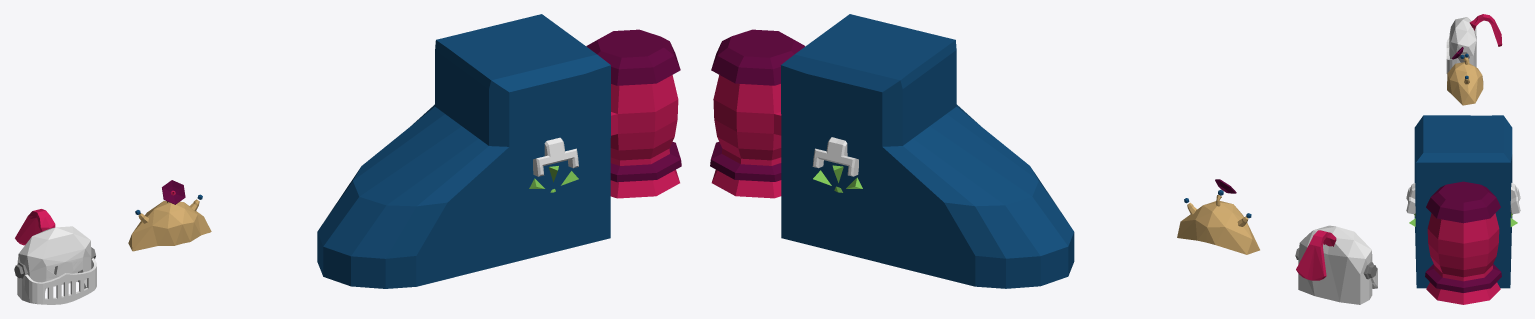
The model's file is Equipment.fbx.
The picture shows the model from 3 angles, left to right: view 1: azimuth 30°, elevation 25°; view 2: azimuth 150°, elevation 25°; view 3: azimuth 270°, elevation 25°; orthographic projection. The views are drawn at different scales.
Parts seen in each view (by area): view 1: RocketBoots, Helmet_protect, Helmet_GhostSlow, Cube; view 2: RocketBoots, Helmet_protect, Helmet_GhostSlow, Cube; view 3: RocketBoots, Helmet_protect, Helmet_GhostSlow, Cube, Icosphere.
Part boxes in pixels (x1,y1,x2,y2): RocketBoots: (317,14,681,288); Helmet_protect: (14,209,96,304); Helmet_GhostSlow: (128,194,211,251); Cube: (533,137,578,176); RocketBoots: (710,14,1074,288); Helmet_protect: (1295,225,1377,304); Helmet_GhostSlow: (1177,190,1259,254); Cube: (812,137,858,176); RocketBoots: (1414,115,1512,304); Helmet_protect: (1446,14,1502,73); Helmet_GhostSlow: (1447,53,1483,105); Cube: (1406,183,1520,214); Icosphere: (1409,213,1517,226).
Size of the model in its own units: 1134 by 300 by 234.
